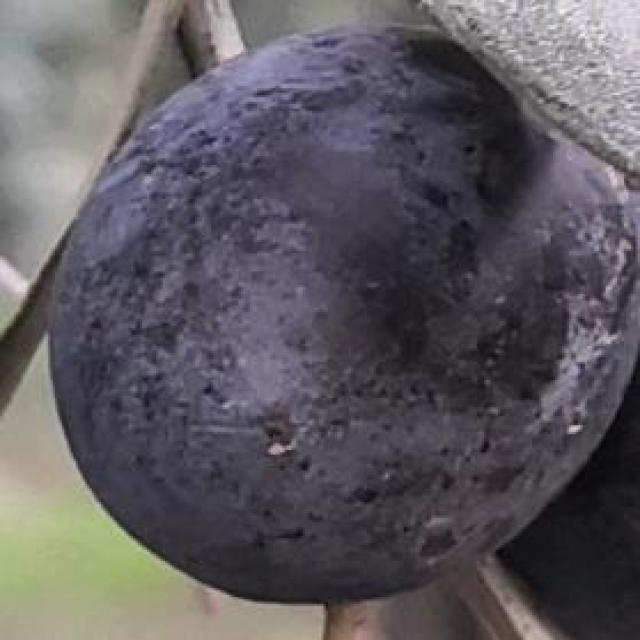Healthy: (50, 27, 638, 599)
